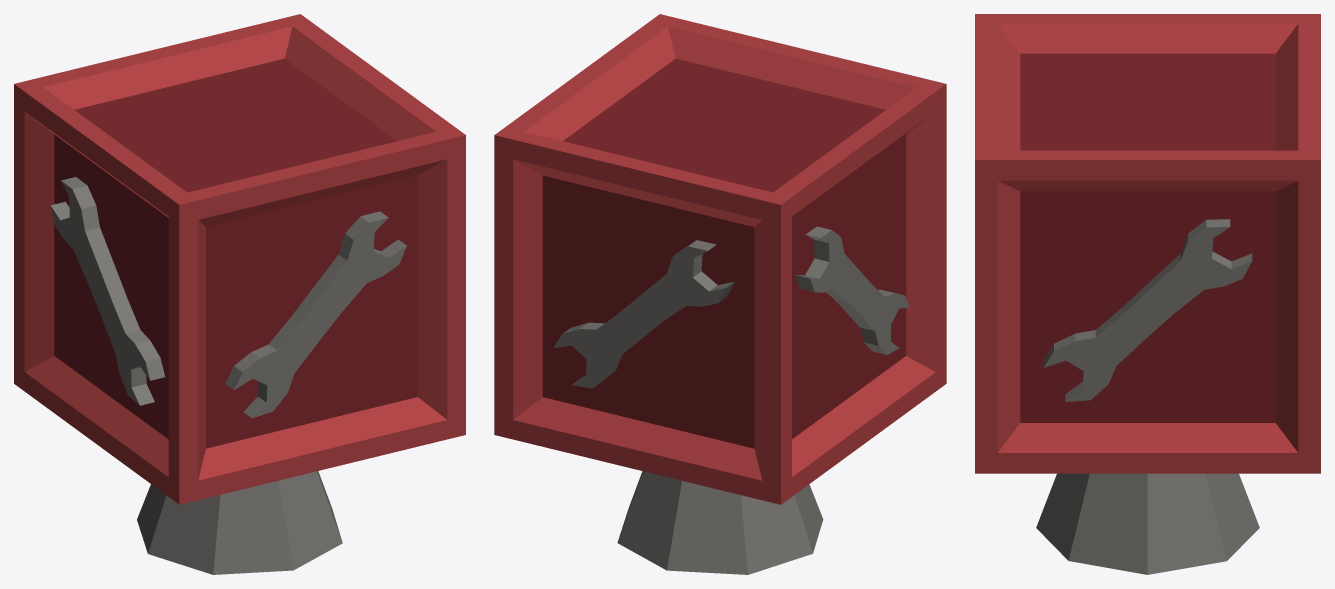
File: heal.fbx
The picture shows the model from 3 angles, left to right: view 1: azimuth 30°, elevation 25°; view 2: azimuth 150°, elevation 25°; view 3: azimuth 270°, elevation 25°; orthographic projection. The views are drawn at different scales.
Visible parts, largest first — view 1: Cube; view 2: Cube; view 3: Cube.
Part boxes in pixels (bbox=[...]): Cube: bbox=[14, 14, 465, 574]; Cube: bbox=[494, 14, 946, 574]; Cube: bbox=[975, 14, 1320, 574].
Bounding box in the file's own units: 230 × 324 × 230.
